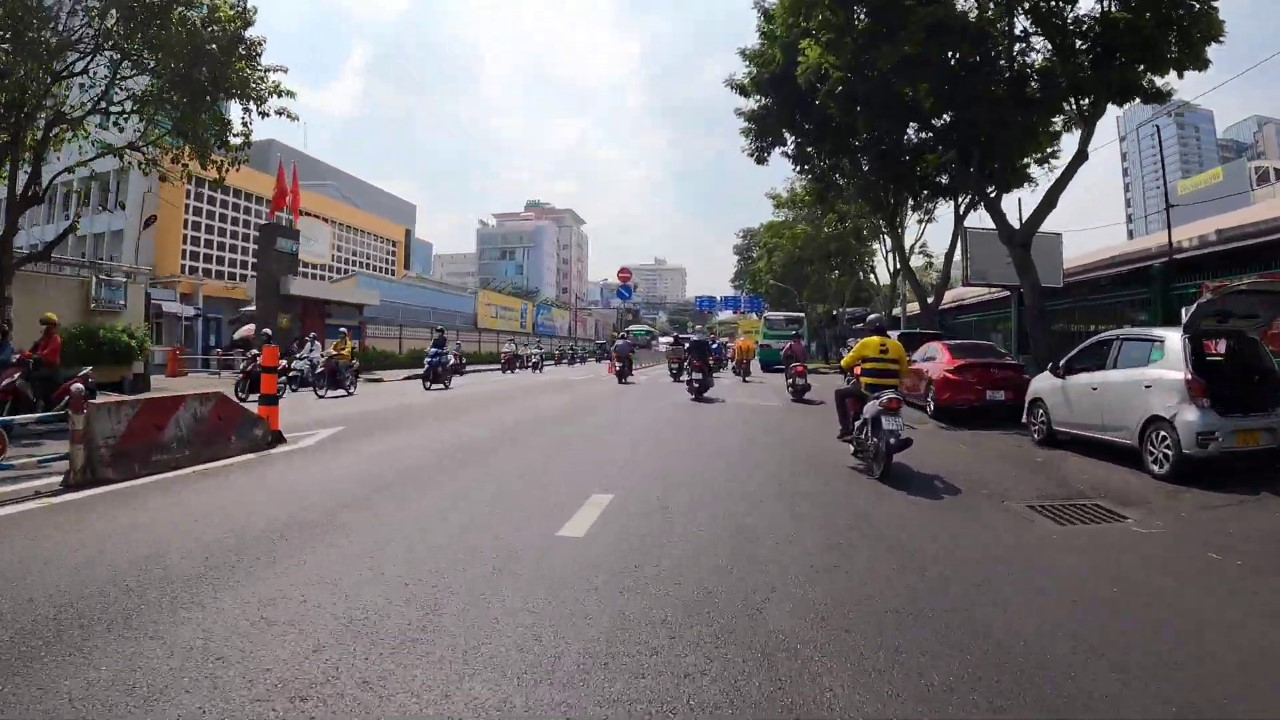cam_nguoc_chieu: (617, 267, 633, 282)
huong_phai_di_vong: (616, 284, 632, 300)
